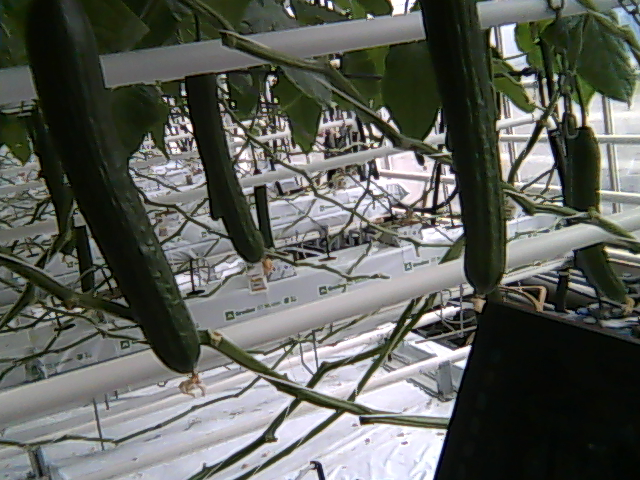concombre: (21, 1, 204, 394), (416, 1, 512, 299)
